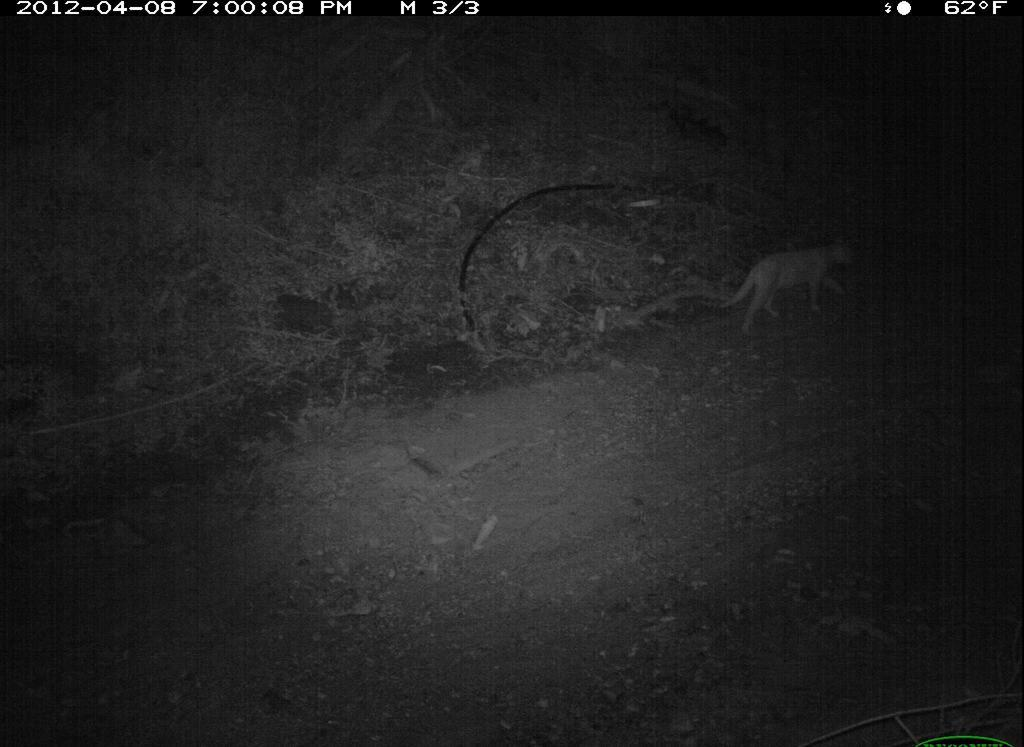cat: (722, 230, 862, 335)
